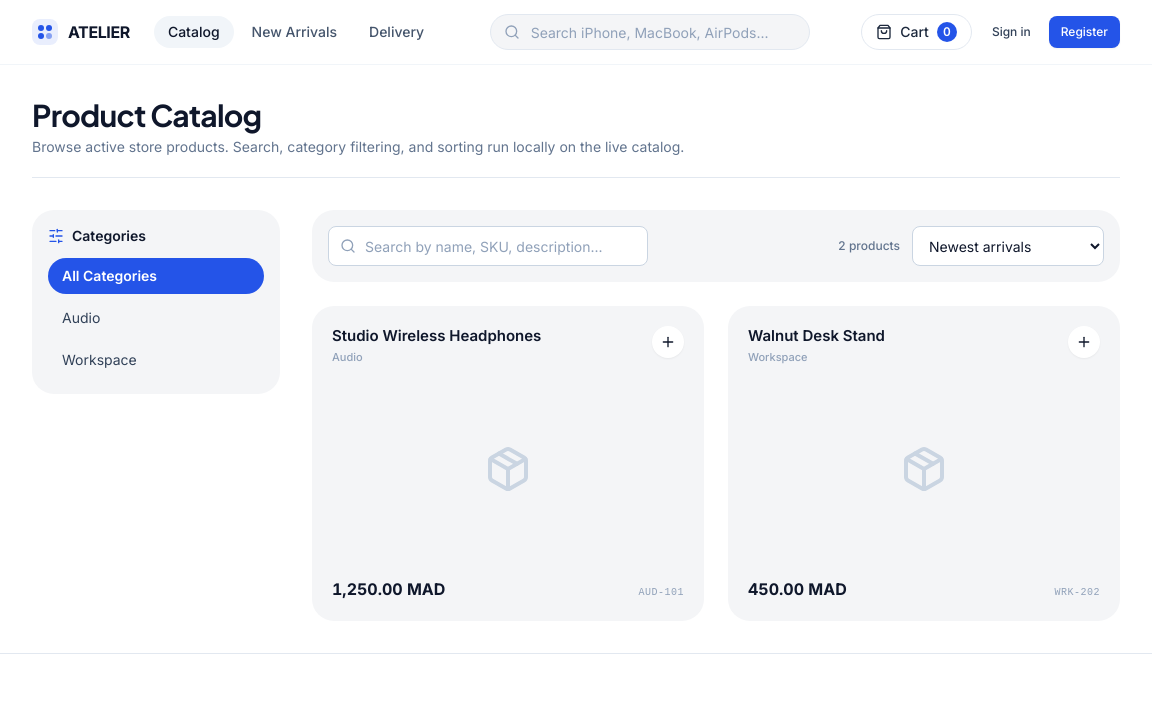
Product Listing, Details, and Cart › displays products and filters by search term
Expected: the link "Studio Wireless Headphones" is shown, [332,326,541,347]
Expected: the link "Walnut Desk Stand" is shown, [748,326,885,347]
Type "Walnut" into the search field named "filter catalog products".
click(488, 246); type("Walnut")  # box [328,226,648,266]
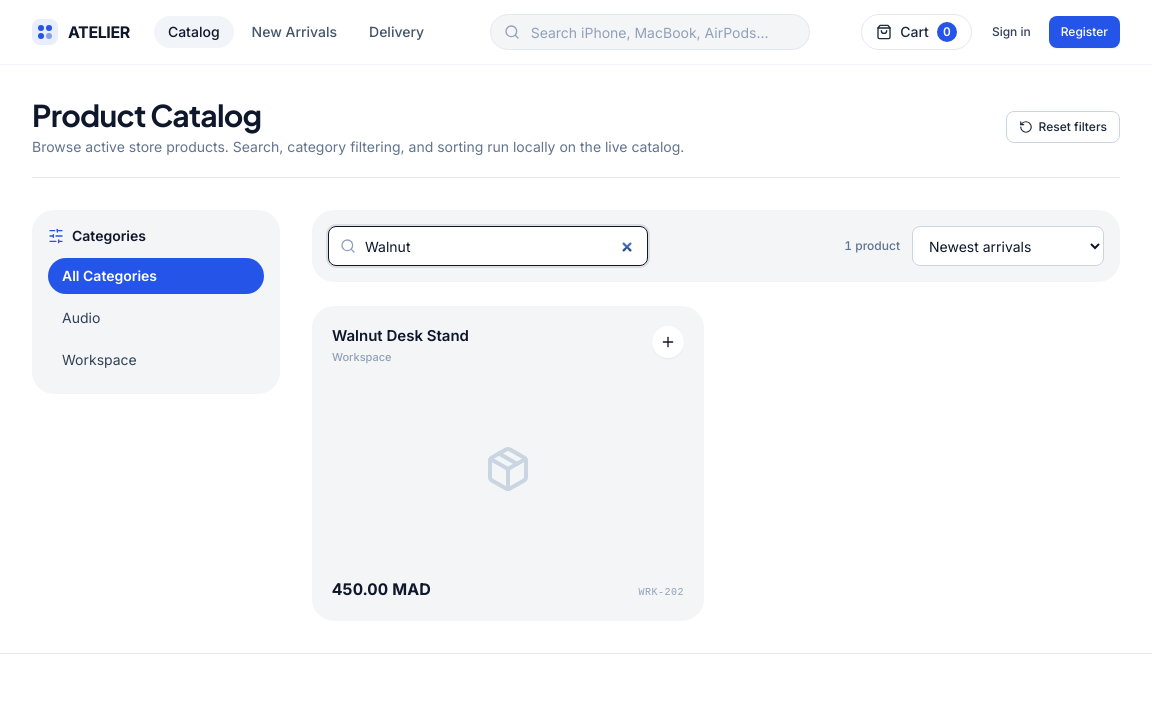
Expected: the link "Walnut Desk Stand" is shown, [332,326,469,347]
Expected: the link "Studio Wireless Headphones" is gone
